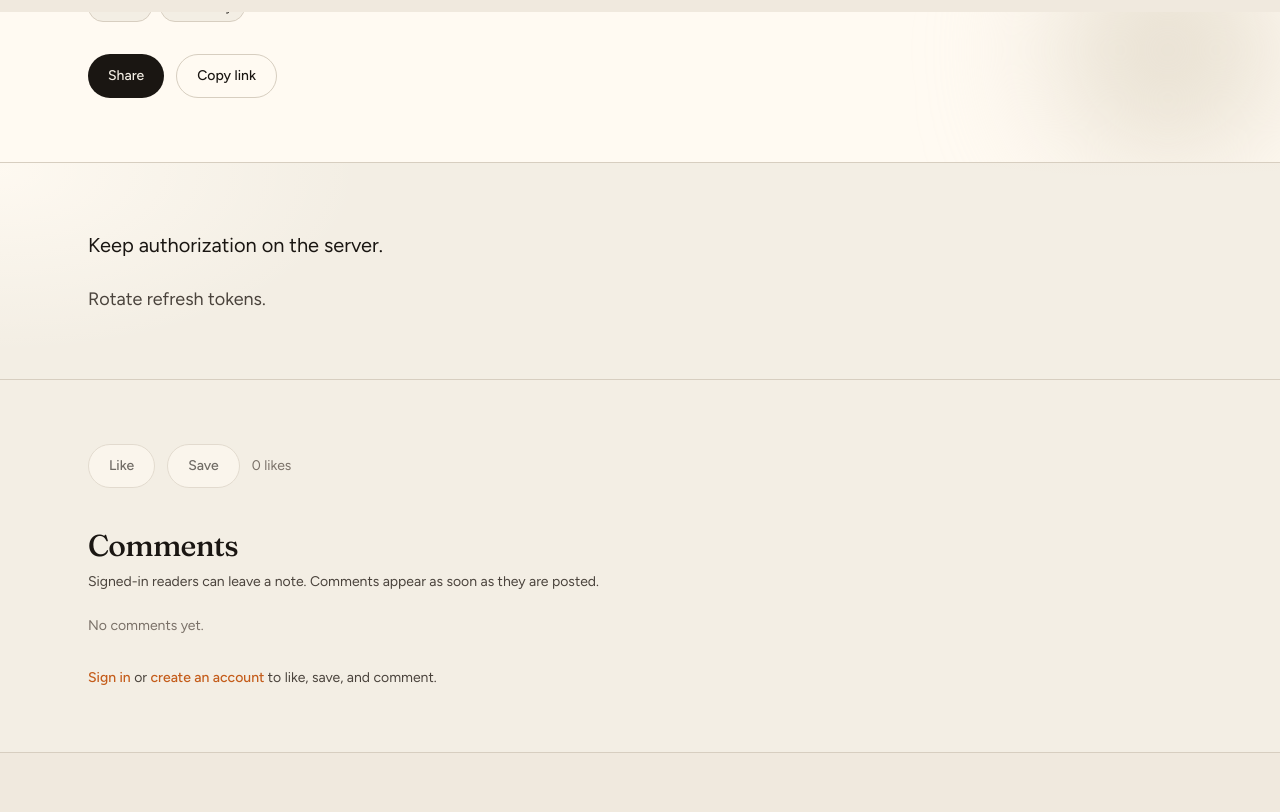
Test case: BlogPage › renders a post, related writing, and copies the link
(page scrolled)
Expected: the text "Keep authorization on the server." is shown, x1=88 y1=233 x2=383 y2=257
Expected: the heading "Comments" is shown, x1=88 y1=527 x2=238 y2=564
Click the button "Copy link" at (227, 76), box x1=176 y1=54 x2=277 y2=98
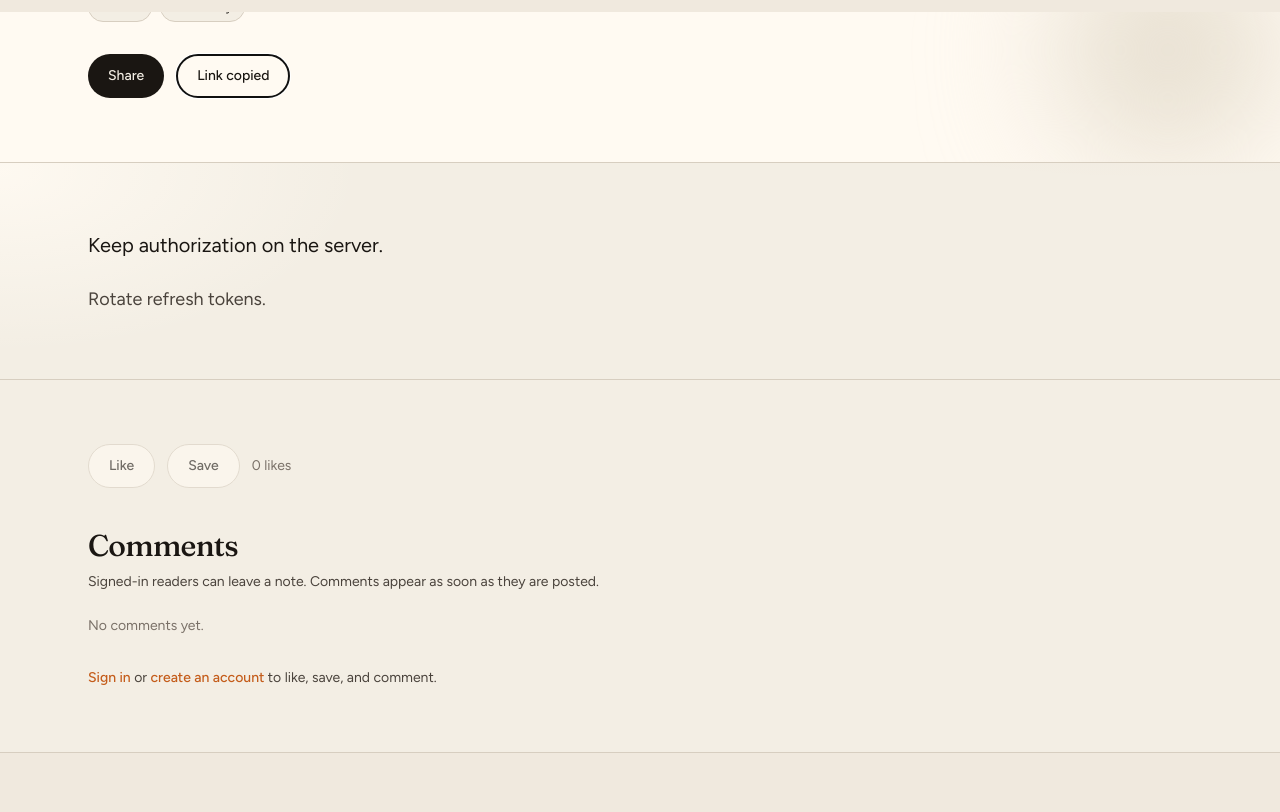
Now the button "Link copied" is shown, box x1=176 y1=54 x2=290 y2=98
